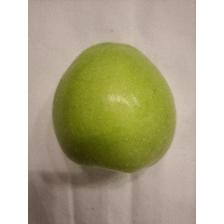Apfel: (51, 39, 177, 175)
